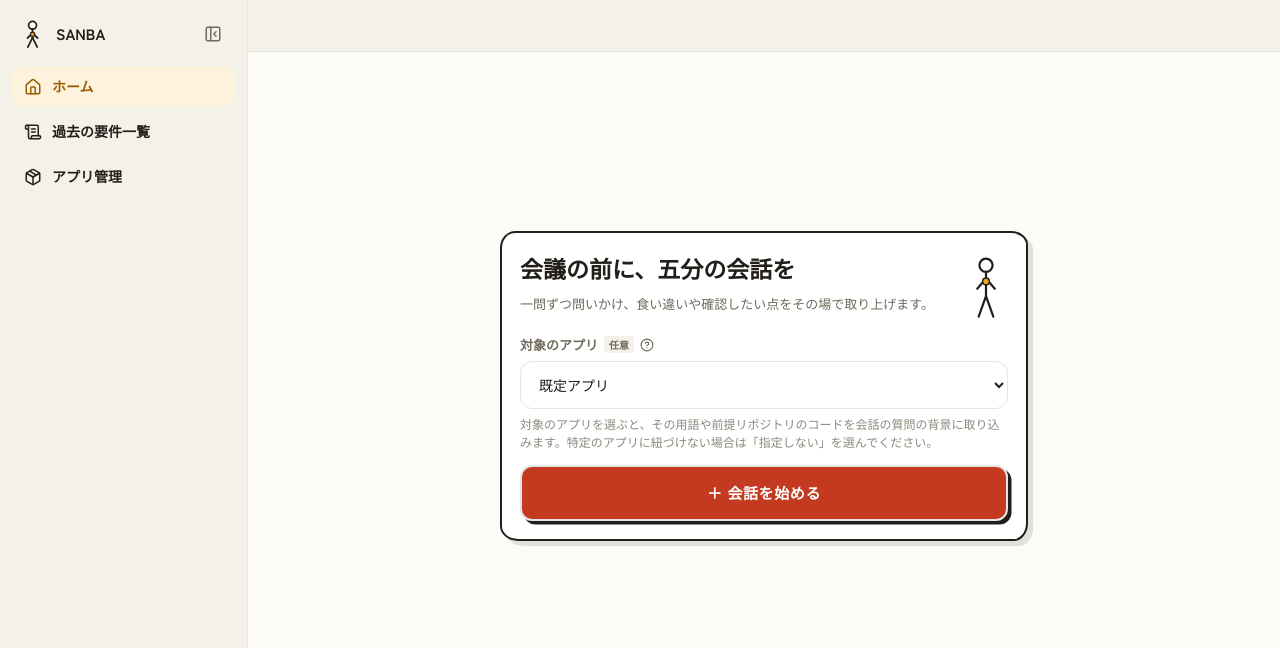
Test: 入口フロー（#140） › CTA で 02 準備へ進むと URL が /{slug}/prepare に更新され、戻る ‹ で / に戻る
Click the button "＋ 会話を始める" at x=764, y=493, box [520, 464, 1008, 521]
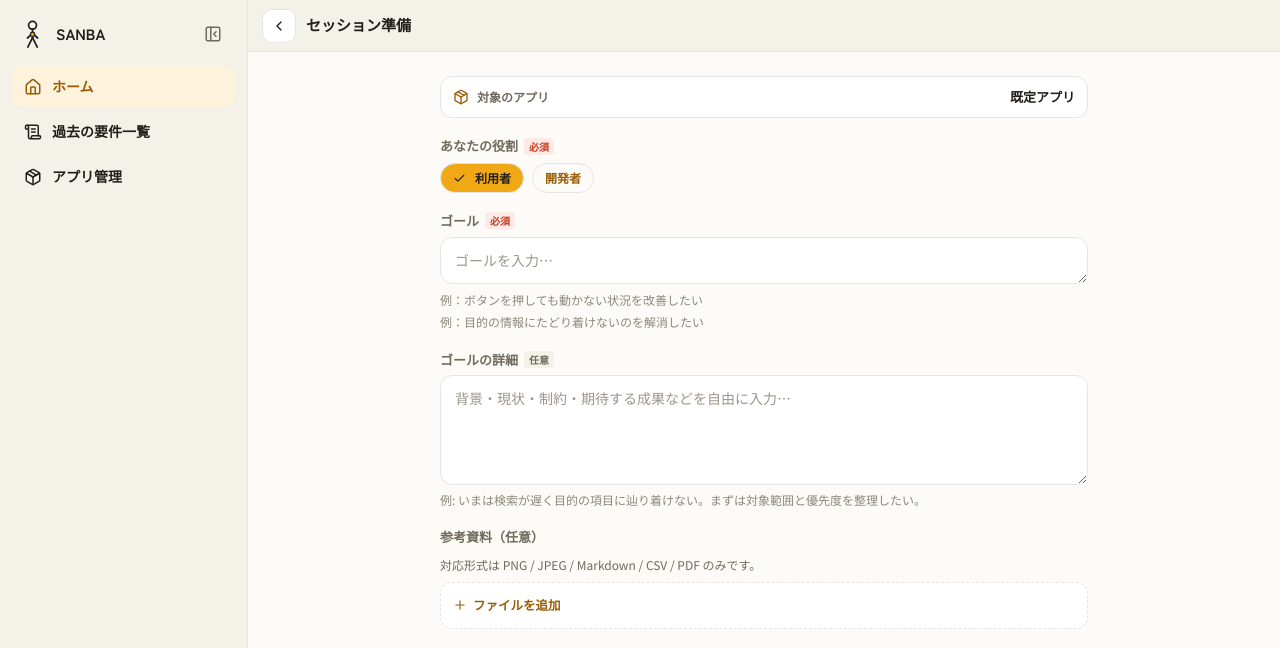
Now the heading "セッション準備" is shown, box [306, 14, 411, 37]
Click the button named "戻る" at x=279, y=26, box [262, 8, 296, 42]
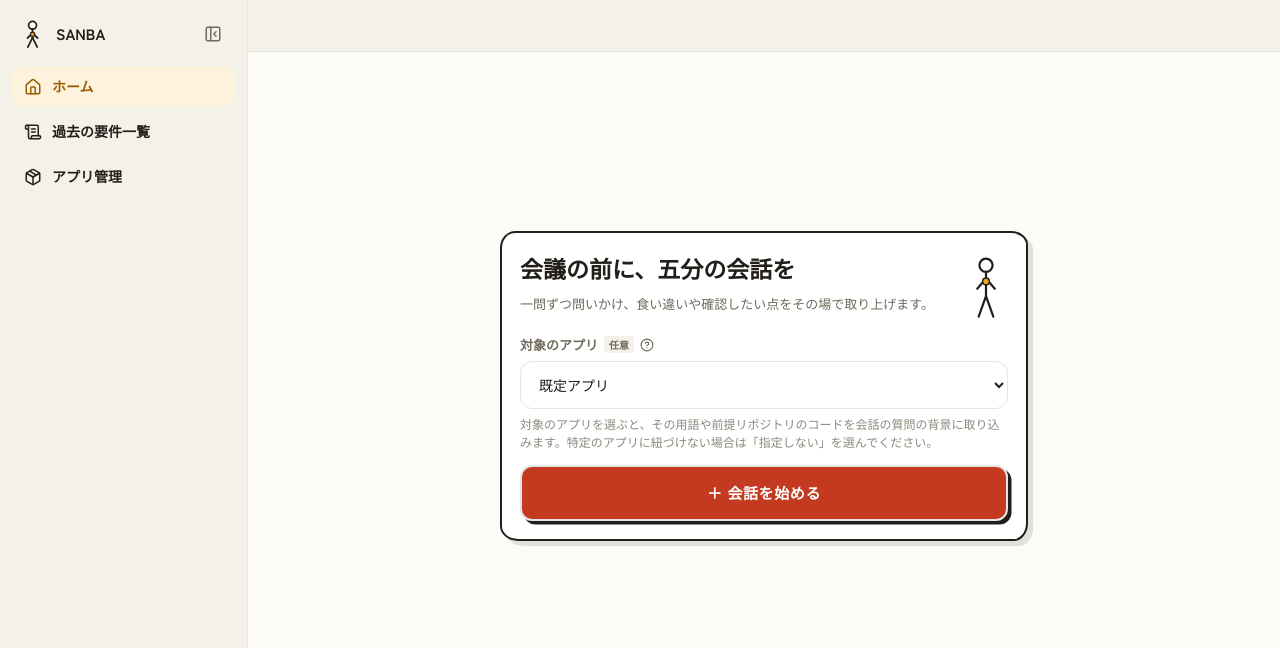
Now the heading "会議の前に、五分の会話を" is shown, box [520, 251, 795, 285]
